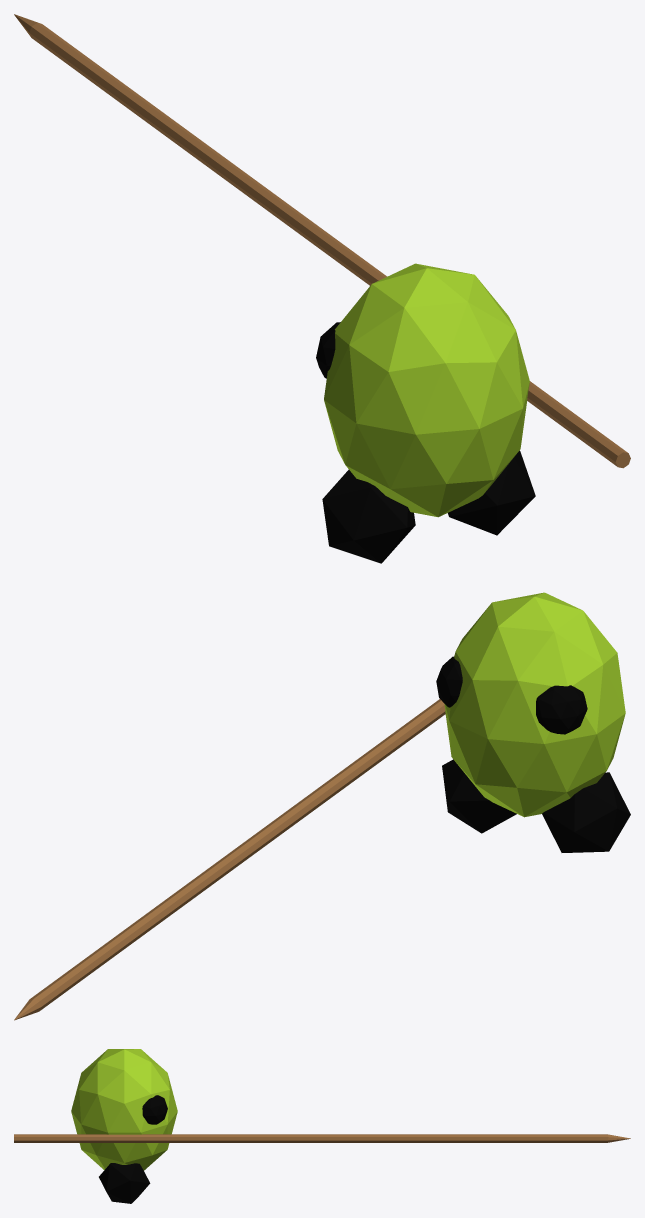
Rendered from stab.f0010.glb.
3 renders of one model, top to bottom at view 1: azimuth 30°, elevation 25°; view 2: azimuth 150°, elevation 25°; view 3: azimuth 270°, elevation 25°, orthographic. The views are drawn at different scales.
Visible parts, largest first — view 1: Body.001; view 2: Body.001; view 3: Body.001.
Part boxes in pixels (<box>): Body.001: <box>14,14,630,563</box>; Body.001: <box>14,592,630,1020</box>; Body.001: <box>14,1049,630,1203</box>.
Bounding box in the file's own units: 2.17 × 2.85 × 11.56.
1 material, 1 textured.
